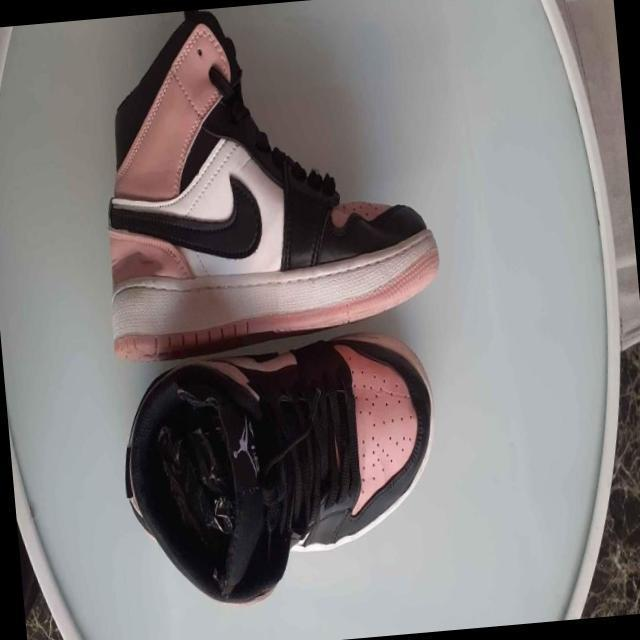nike fake jordan 1: (66, 0, 445, 355), (114, 330, 448, 614)
